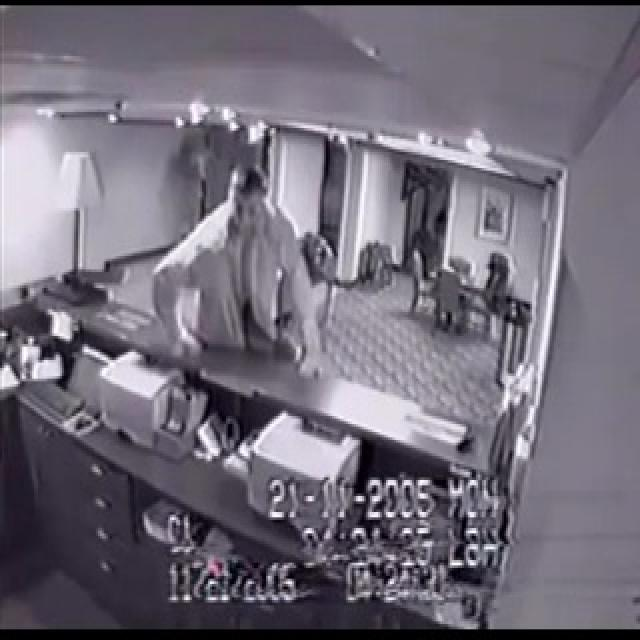thief: (169, 165, 318, 387)
